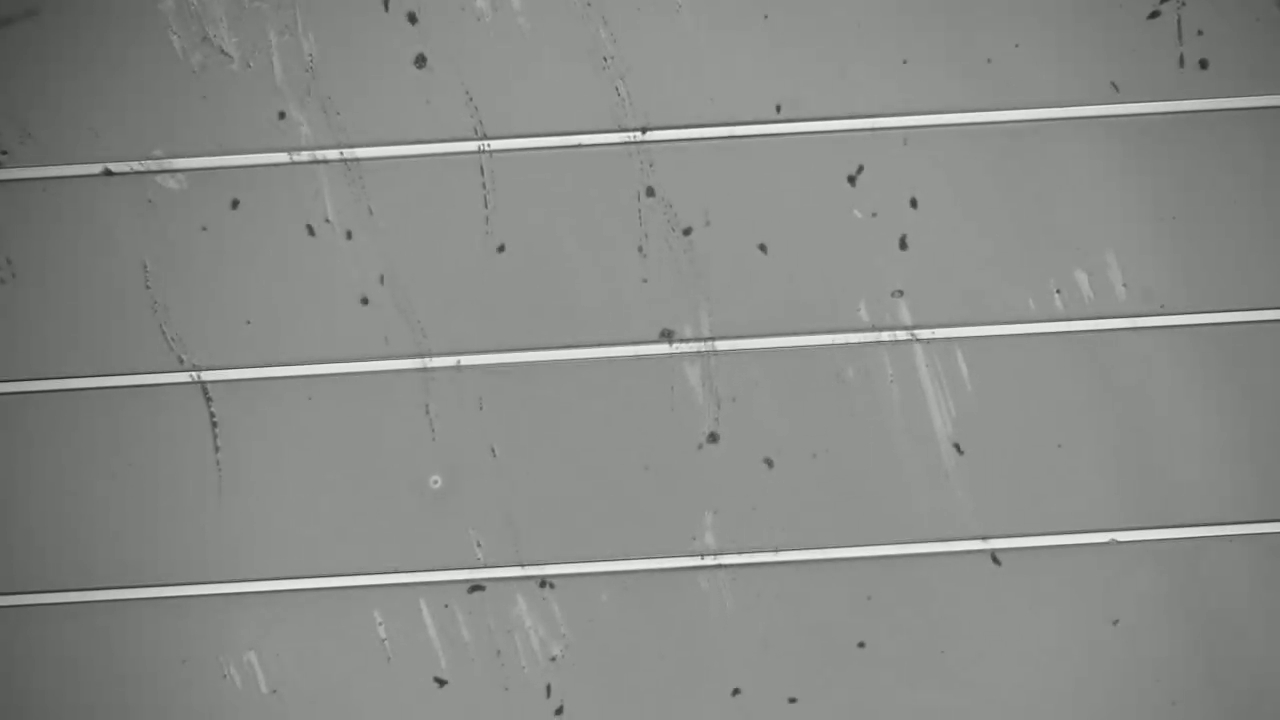scratch: (590, 37, 723, 393), (143, 263, 236, 488), (458, 78, 509, 241)
stains_enbedded: (95, 156, 117, 180)
